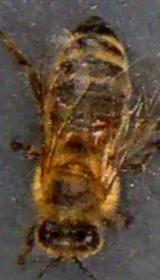varroa_mite: (78, 115, 116, 148)
